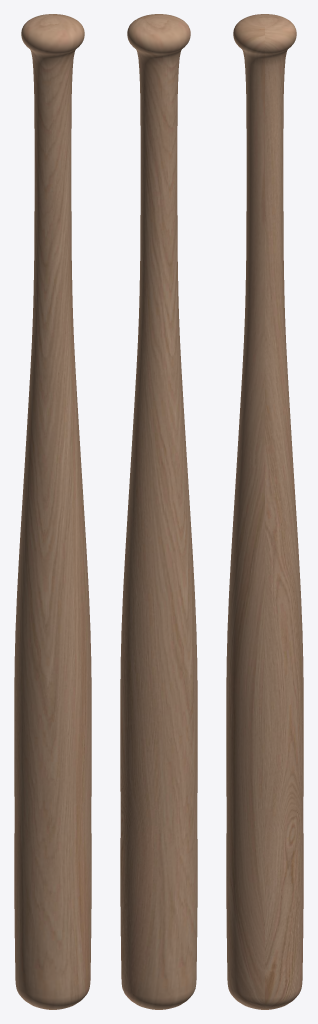
Rendered from bat_model.glb.
The picture shows the model from 3 angles, left to right: view 1: azimuth 90°, elevation 25°; view 2: azimuth 150°, elevation 25°; view 3: azimuth 270°, elevation 25°; orthographic projection.
Parts seen in each view (by area): view 1: Cylinder; view 2: Cylinder; view 3: Cylinder.
Boxes of the visible parts, x1,y1,x2,y2 form: Cylinder: [14, 14, 91, 1009]; Cylinder: [120, 14, 197, 1009]; Cylinder: [226, 14, 303, 1009].
Bounding box in the file's own units: 0.3458 × 4.84 × 0.3458.
Materials: 1 (1 with a texture image).
